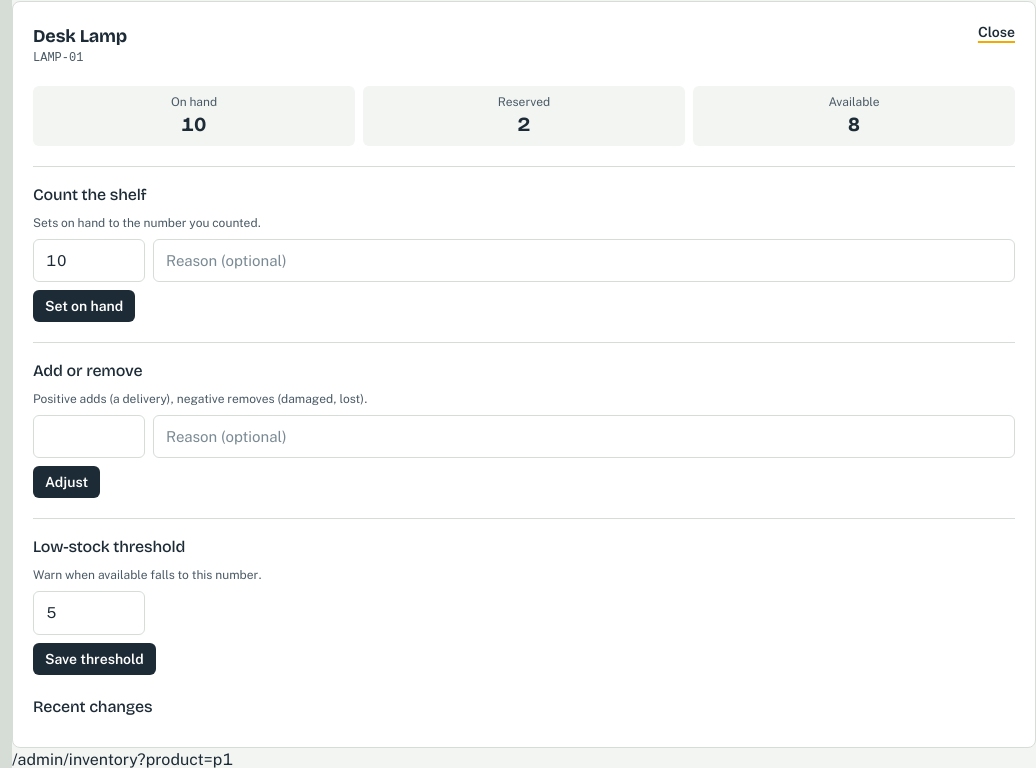
Test: stock › is adjusted by a whole, non-zero number, removals included
(page scrolled)
Type "0" into the field named "Change by". click: (89, 437)
box: [33,415,145,458]
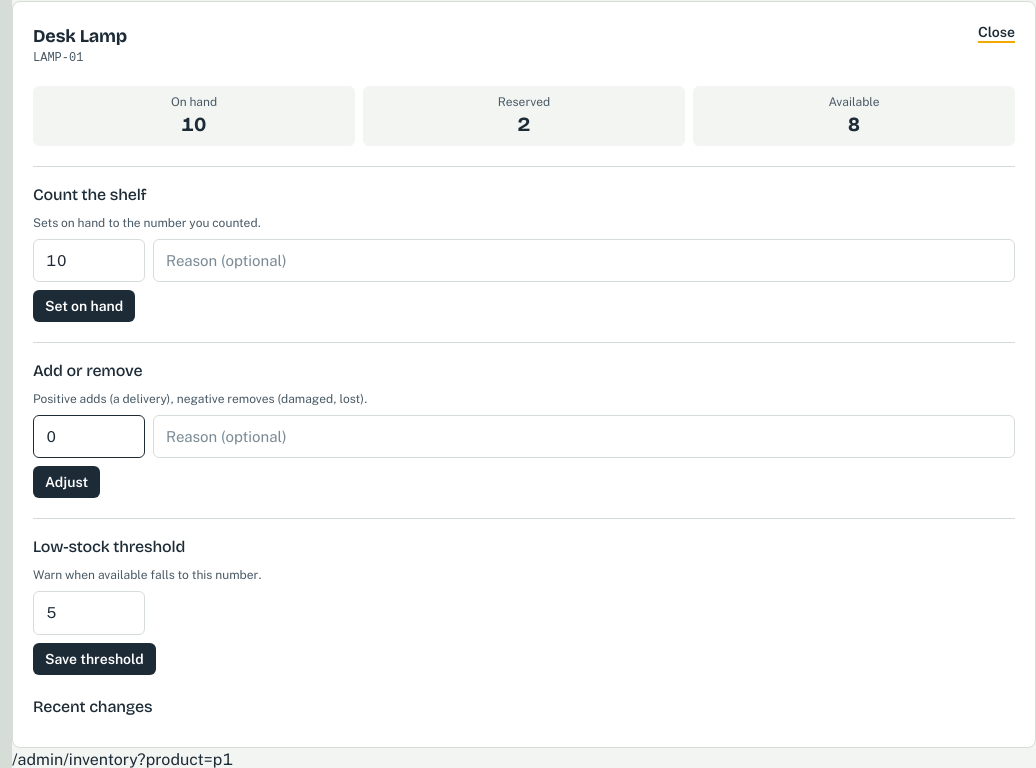
Click the button "Adjust". click: click(67, 482)
box: [33,466,100,498]
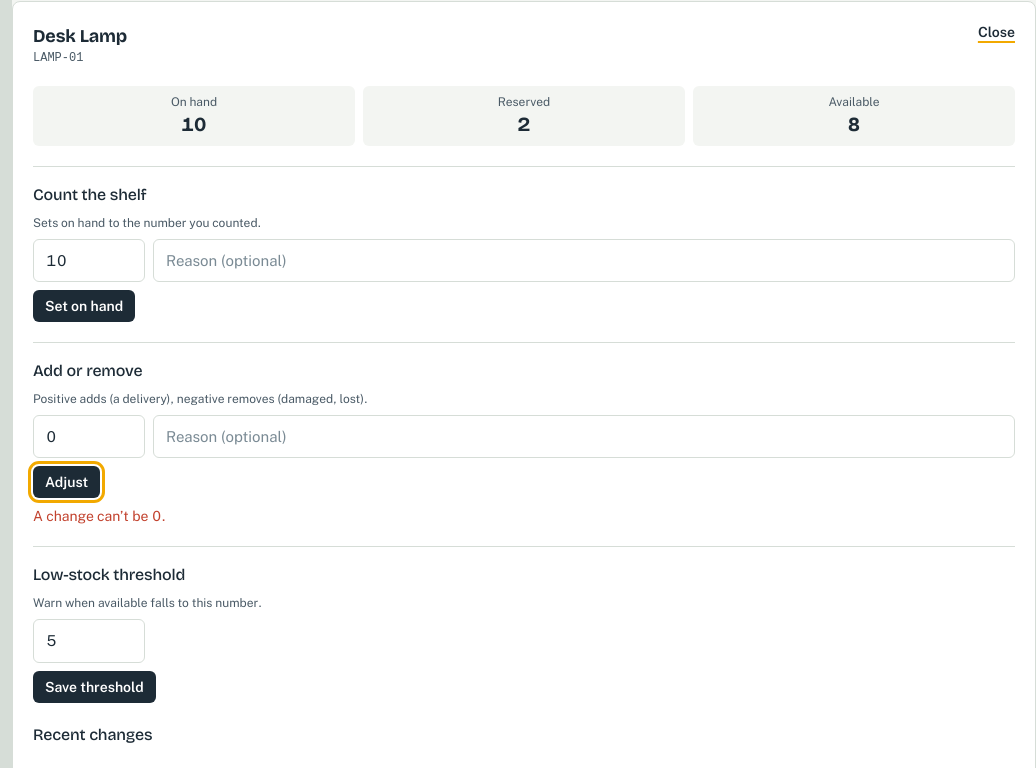
Expected: the text "A change can’t be 0." is shown, [33,508,166,524]
Replace the text in the field named "Change by" with "-3". click: (89, 437)
box: [33,415,145,458]
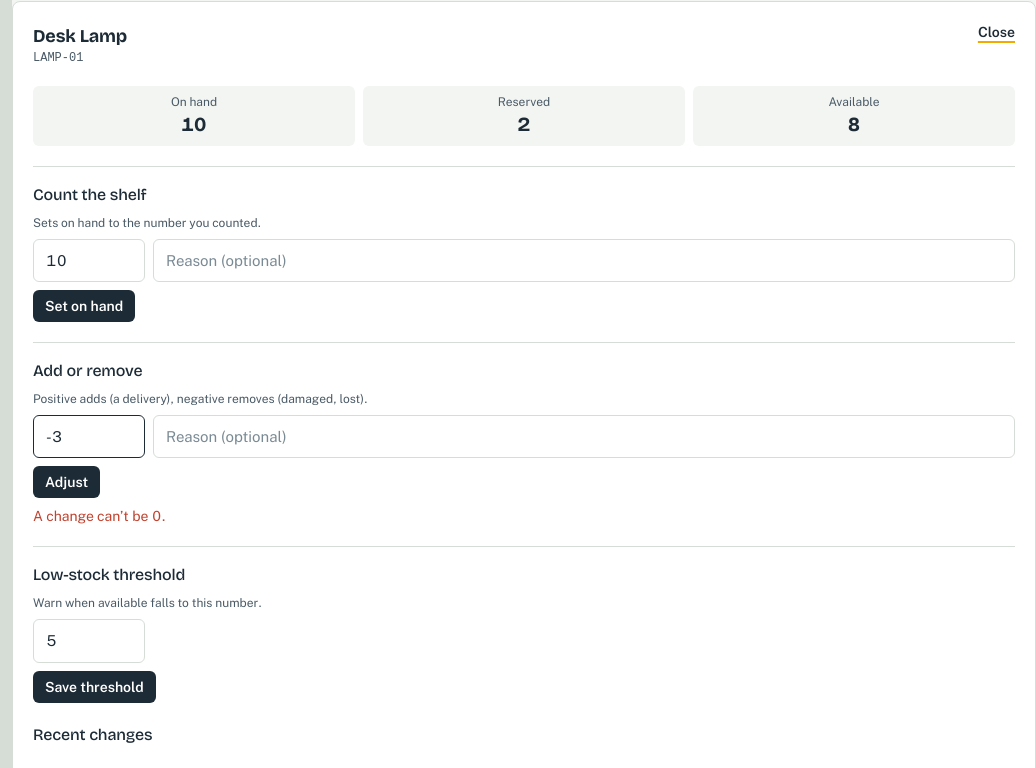
Type "Damaged" into the field labelled "Reason" below "Add or remove". click: (584, 437)
box: [153,415,1015,458]
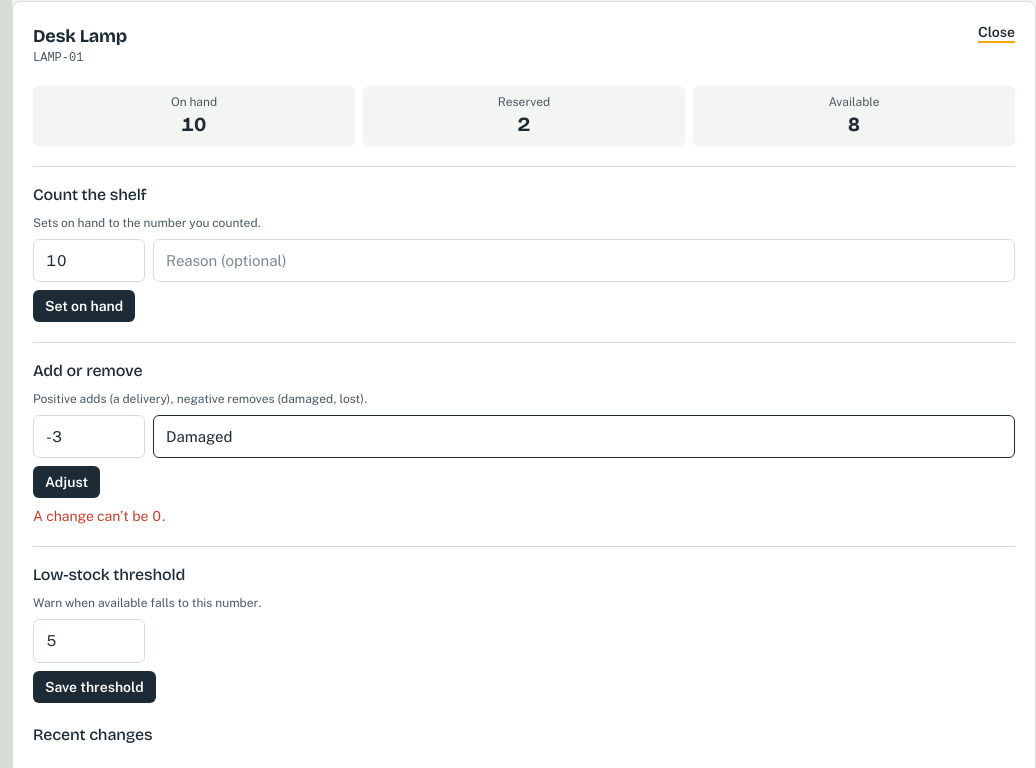
Click the button "Adjust". click: click(67, 482)
box: [33,466,100,498]
(page scrolled)
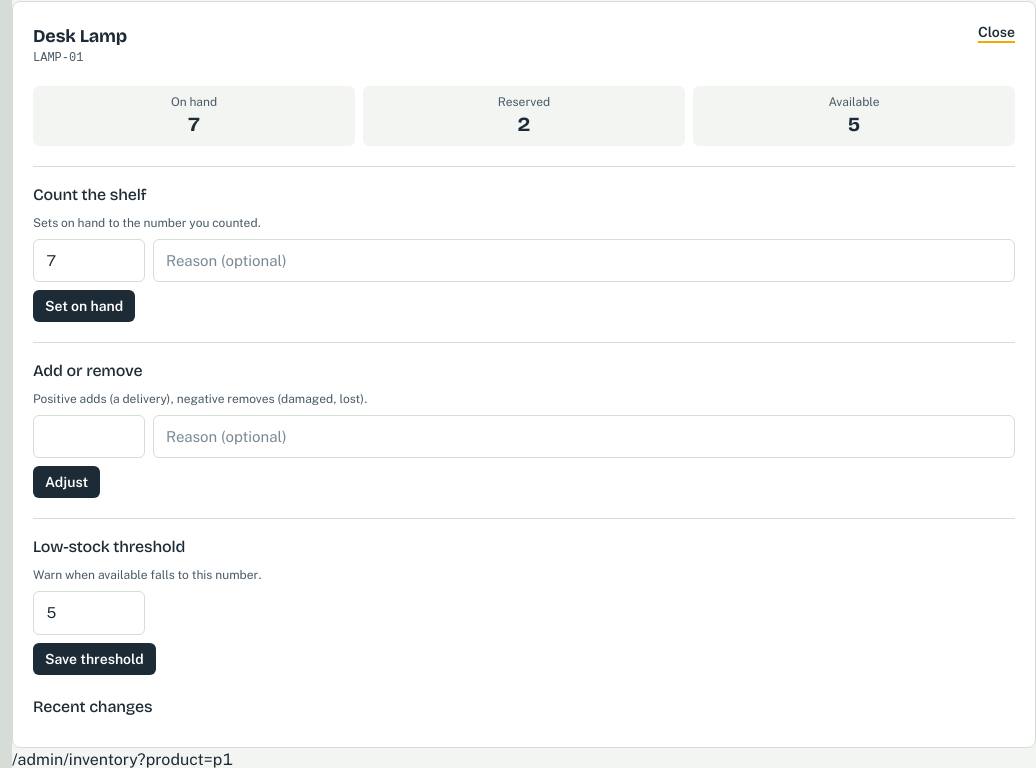
Expected: the field named "Counted on hand" holds "7", [33,238,145,282]
